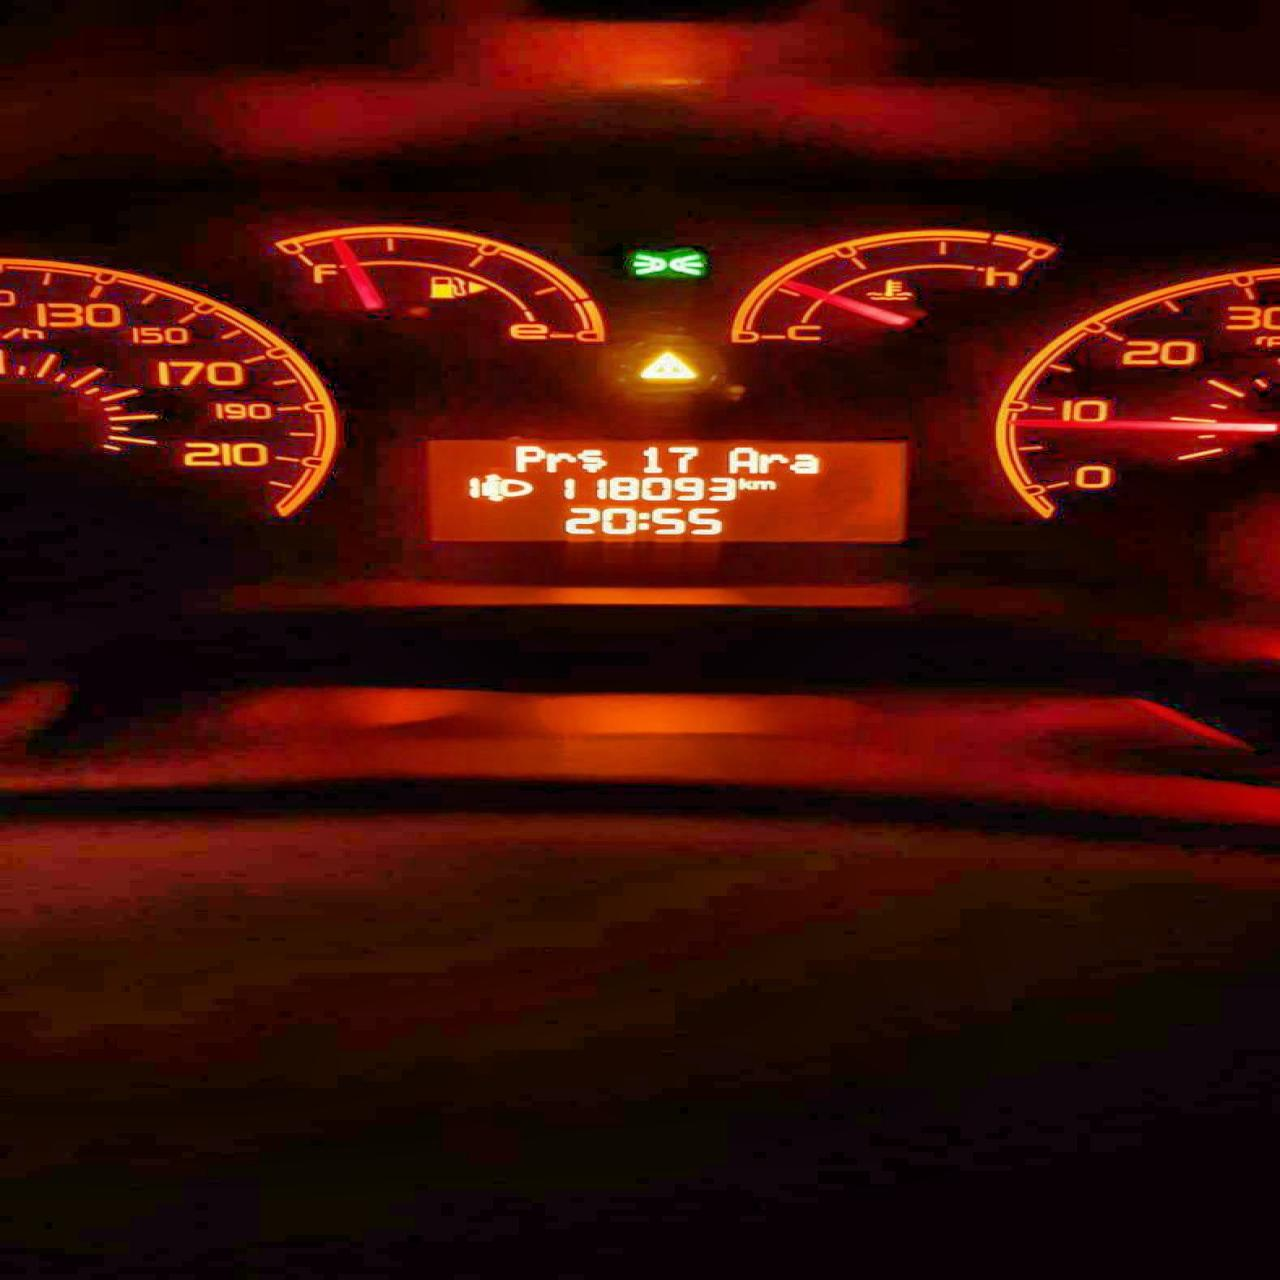0: (599, 508, 636, 535), (639, 475, 670, 501)
1: (638, 444, 662, 474), (464, 475, 481, 501), (592, 475, 607, 502), (560, 476, 576, 501)
2: (565, 505, 599, 536)
3: (706, 475, 735, 501)
5: (688, 506, 722, 535), (652, 508, 685, 535)
7: (667, 445, 700, 472)
8: (607, 475, 639, 501)
9: (672, 476, 704, 501)
X: (511, 442, 542, 472), (726, 447, 757, 472), (578, 448, 606, 474), (789, 452, 819, 474), (757, 452, 787, 474), (547, 450, 576, 471), (635, 511, 651, 531), (751, 479, 777, 490), (736, 476, 749, 490)
odometer: (420, 436, 910, 544)
